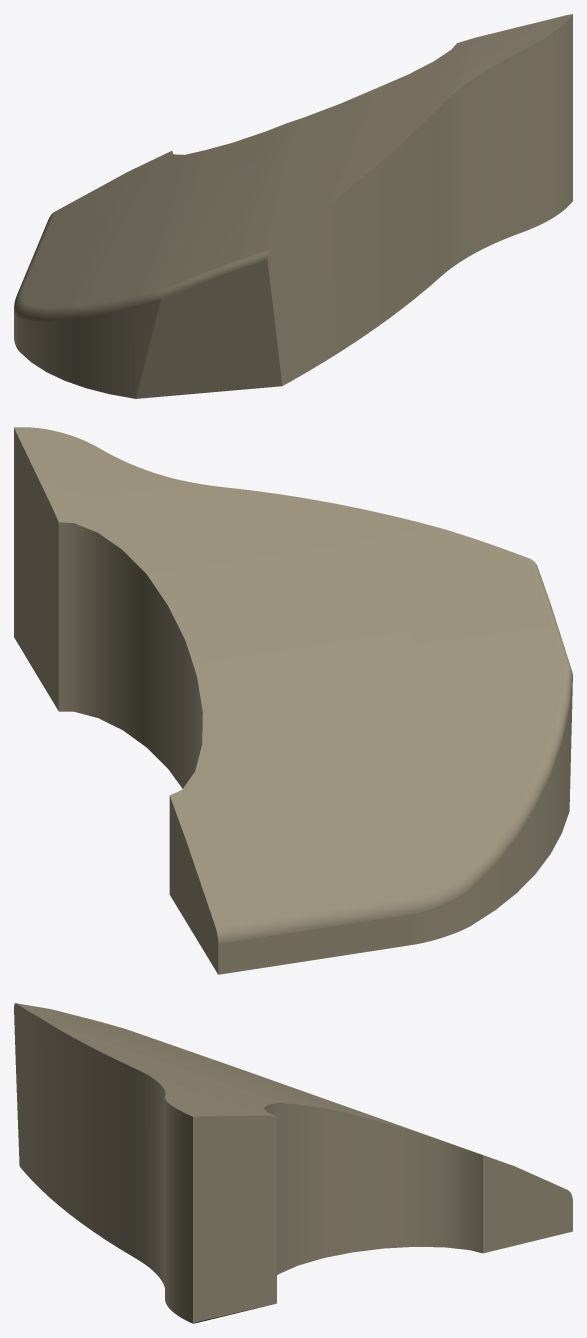
File: original-131.obj
The picture shows the model from 3 angles, top to bottom: view 1: azimuth 30°, elevation 25°; view 2: azimuth 150°, elevation 25°; view 3: azimuth 270°, elevation 25°; orthographic projection. The views are drawn at different scales.
Visible parts, largest first — view 1: mesh431/mesh431-geometry#mesh431-geometry; view 2: mesh431/mesh431-geometry#mesh431-geometry; view 3: mesh431/mesh431-geometry#mesh431-geometry.
Part boxes in pixels (left/top/right/bottom): mesh431/mesh431-geometry#mesh431-geometry: left=14, top=14, right=572, bottom=398; mesh431/mesh431-geometry#mesh431-geometry: left=14, top=427, right=572, bottom=974; mesh431/mesh431-geometry#mesh431-geometry: left=14, top=1003, right=572, bottom=1323.
Size of the model in its own units: 0.0844 by 0.0457 by 0.0757.
